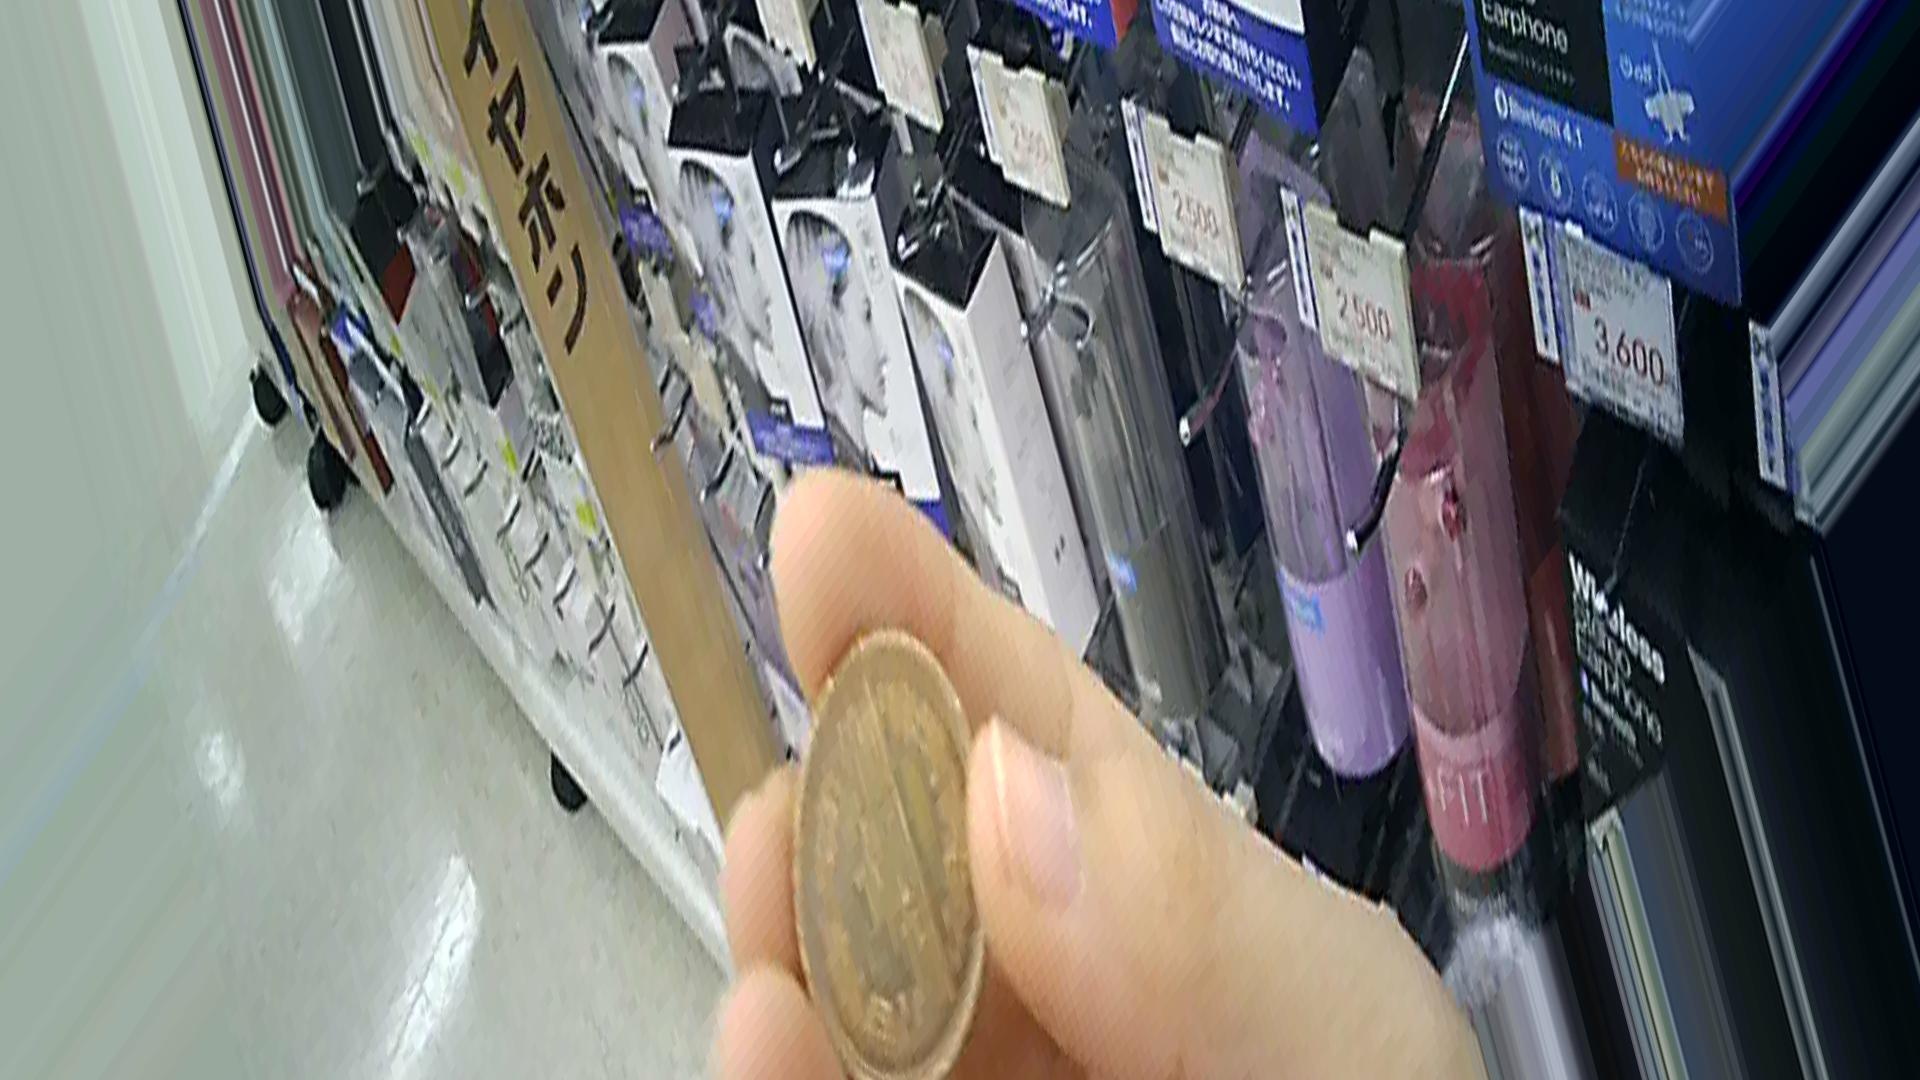10 Yen: (775, 637, 1013, 1079)
